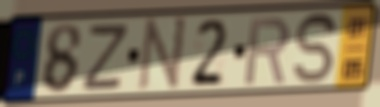2: (186, 17, 232, 89)
8: (42, 22, 84, 96)
N: (135, 15, 189, 94)
R: (243, 15, 293, 87)
S: (292, 11, 339, 87)
Z: (78, 21, 132, 93)
